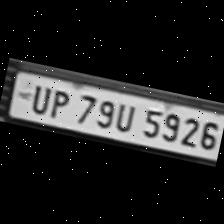2: (175, 111, 201, 146)
5: (135, 104, 164, 138)
6: (194, 117, 221, 152)
7: (66, 89, 96, 126)
9: (91, 95, 118, 130), (157, 108, 182, 142)
P: (44, 85, 72, 120)
U: (24, 80, 52, 116), (110, 98, 139, 132)
